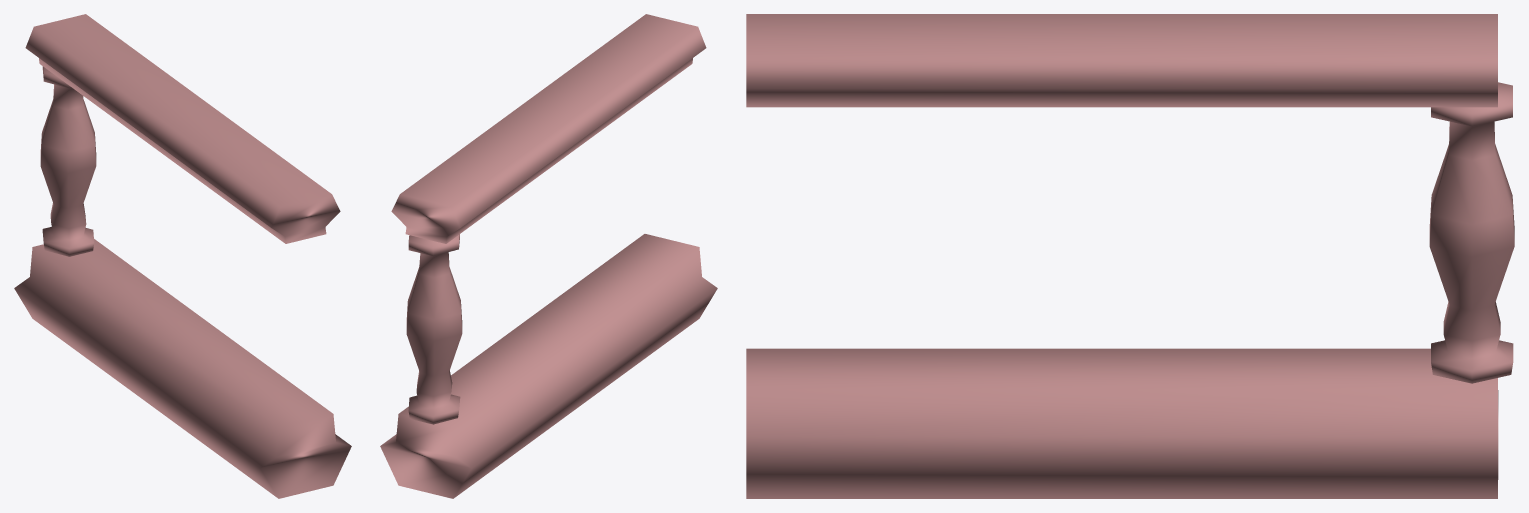
Rendered from Stone_Baluster_02_Lod1.fbx.
3 views of the same model, side by side, from view 1: azimuth 30°, elevation 25°; view 2: azimuth 150°, elevation 25°; view 3: azimuth 270°, elevation 25° (orthographic). The views are drawn at different scales.
Parts seen in each view (by area): view 1: Stone_Baluster_02_Lod1; view 2: Stone_Baluster_02_Lod1; view 3: Stone_Baluster_02_Lod1.
Part boxes in pixels (x1,y1,x2,y2): Stone_Baluster_02_Lod1: (14, 14, 351, 498); Stone_Baluster_02_Lod1: (380, 14, 717, 498); Stone_Baluster_02_Lod1: (746, 14, 1514, 498).
Bounding box in the file's own units: 32.21 × 98.03 × 153.
